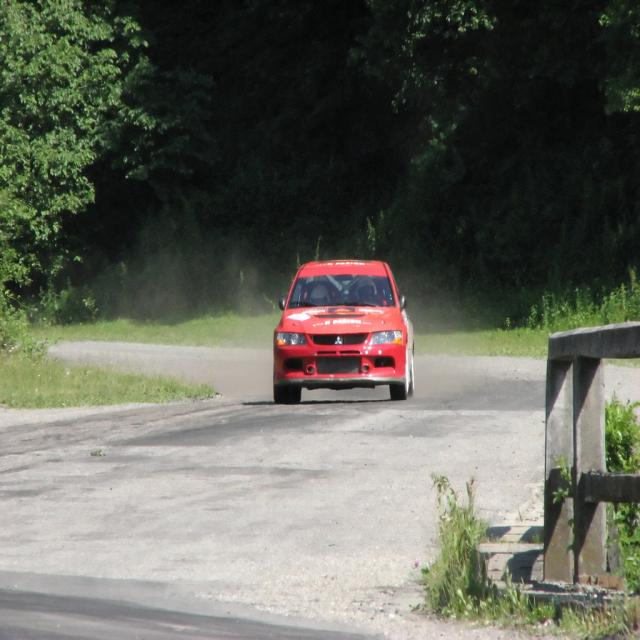car: (272, 257, 414, 403)
